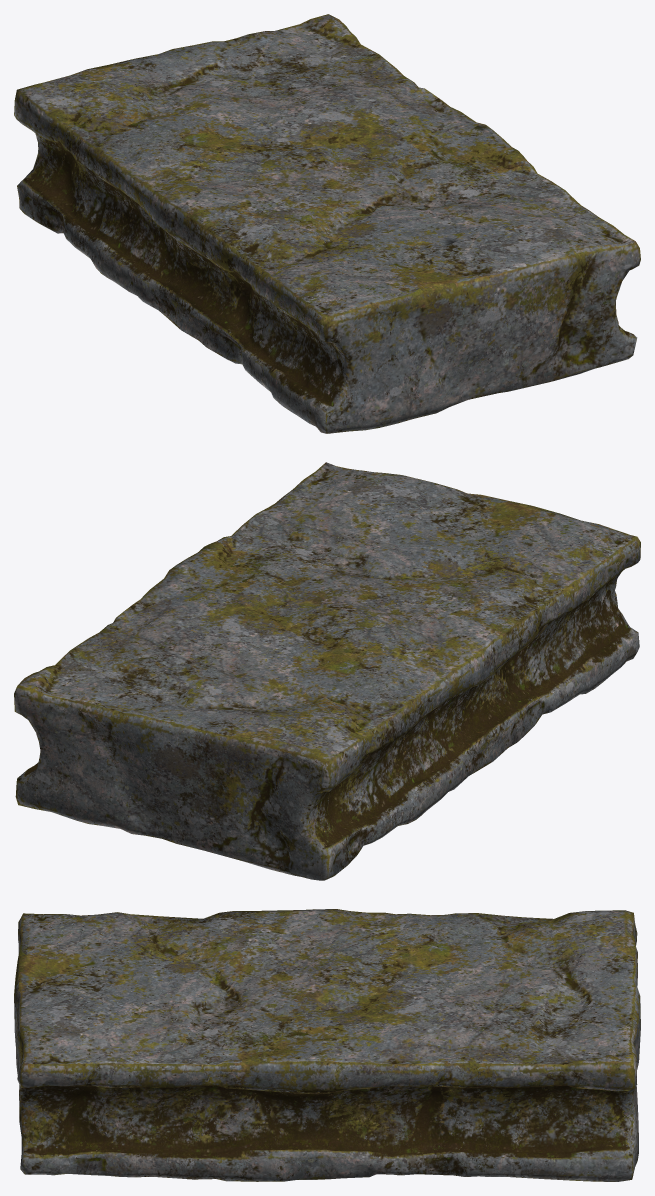
Rendered from SM_StonePlate_A.fbx.
3 views of the same model, one above another, from view 1: azimuth 30°, elevation 25°; view 2: azimuth 150°, elevation 25°; view 3: azimuth 270°, elevation 25° (orthographic).
Parts seen in each view (by area): view 1: SM_StonePlate_A_LOD0; view 2: SM_StonePlate_A_LOD0; view 3: SM_StonePlate_A_LOD0.
Part boxes in pixels (left/top/right/bottom): SM_StonePlate_A_LOD0: left=14, top=14, right=640, bottom=433; SM_StonePlate_A_LOD0: left=14, top=462, right=640, bottom=880; SM_StonePlate_A_LOD0: left=14, top=909, right=640, bottom=1181.
Bounding box in the file's own units: 352 × 595 × 138.
